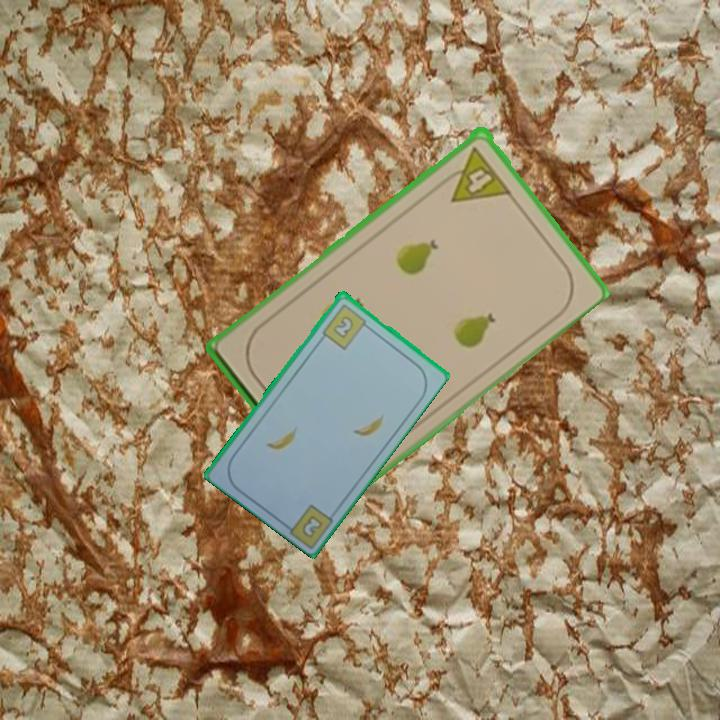2b: (319, 300, 373, 352), (298, 511, 326, 540)
4p: (436, 141, 513, 205)
